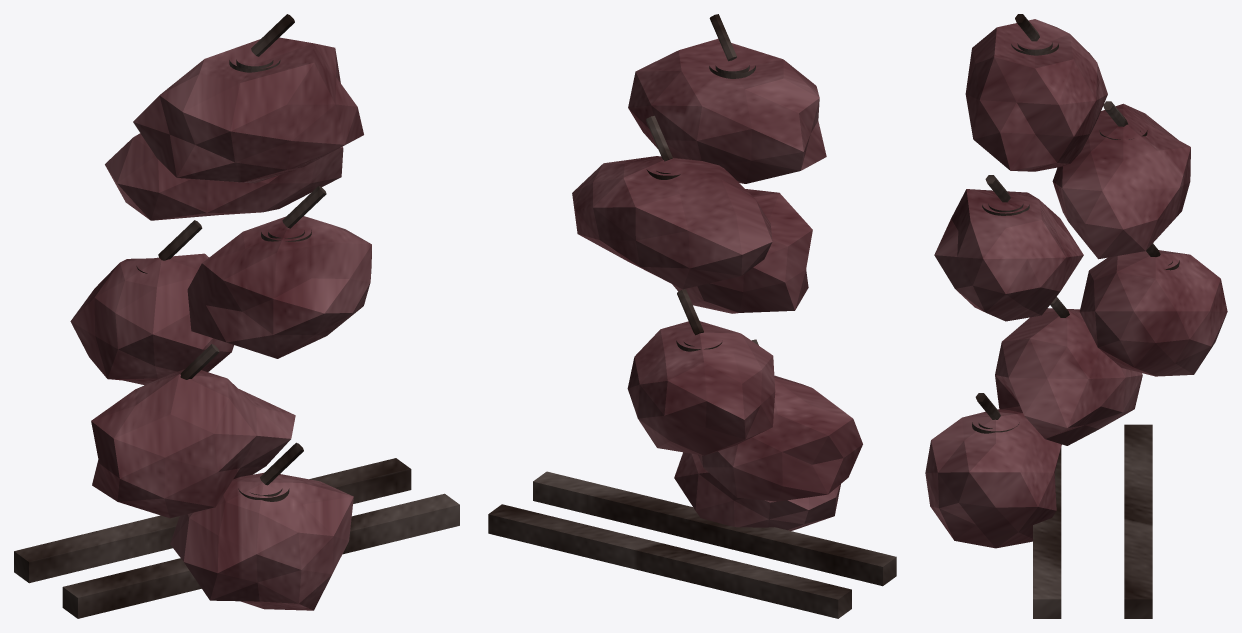
File: 0811_sack_stack_11.glb
The picture shows the model from 3 angles, left to right: view 1: azimuth 30°, elevation 25°; view 2: azimuth 150°, elevation 25°; view 3: azimuth 270°, elevation 25°; orthographic projection. The views are drawn at different scales.
Parts seen in each view (by area): view 1: cloth, wood_dark; view 2: cloth, wood_dark; view 3: cloth, wood_dark.
Part boxes in pixels (x1,y1,x2,y2): cloth: [70, 37, 371, 610]; wood_dark: [14, 14, 459, 618]; cloth: [572, 39, 862, 530]; wood_dark: [488, 14, 896, 618]; cloth: [925, 19, 1227, 548]; wood_dark: [972, 14, 1179, 618].
Bounding box in the file's own units: 1.9 × 2.73 × 1.39.
Materials: 2 (2 with a texture image).
